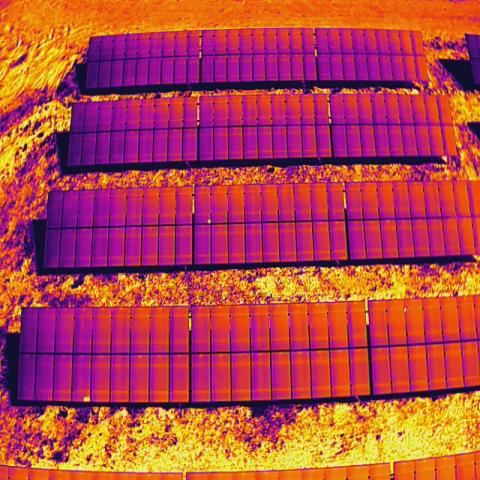fault: (82, 395, 91, 404), (401, 305, 409, 315), (206, 218, 212, 224)
